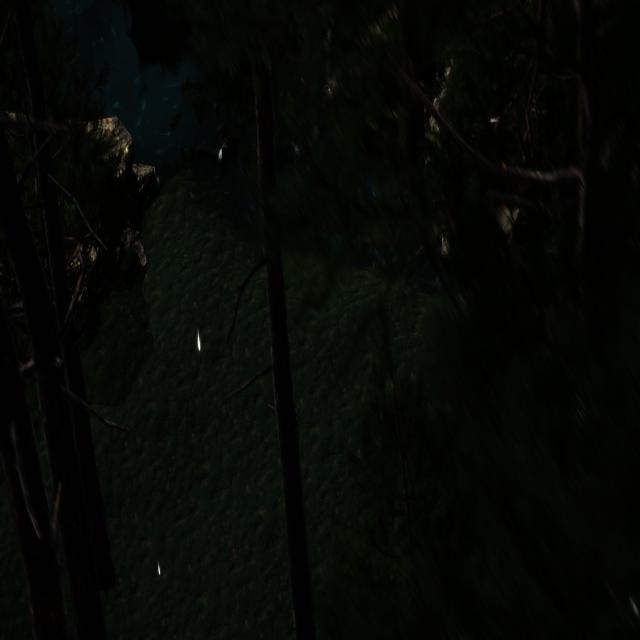Human: (178, 100, 241, 182)
